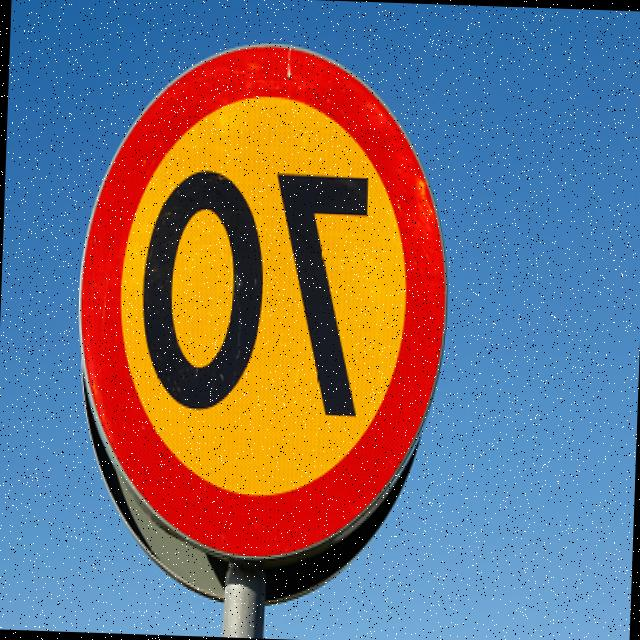speed_limit_70: (70, 29, 456, 562)
